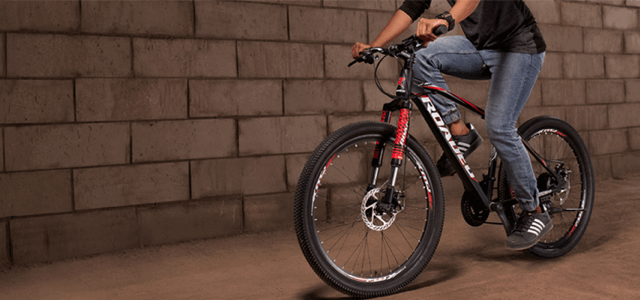cycle: (288, 25, 609, 294)
